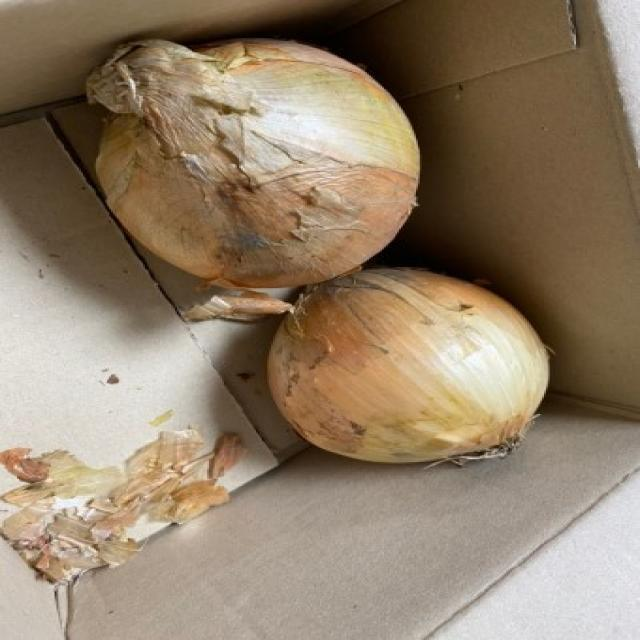Onion: (84, 39, 421, 300), (245, 268, 552, 466)
